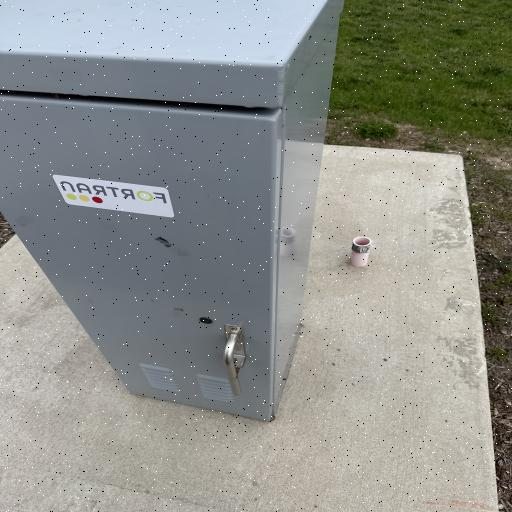Electrical Box: (1, 0, 345, 422)
